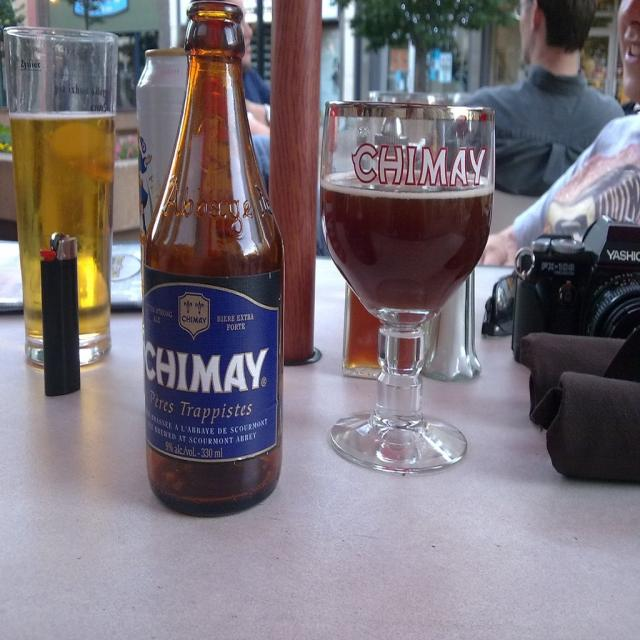chimay: (144, 282, 279, 462), (348, 139, 493, 193)
